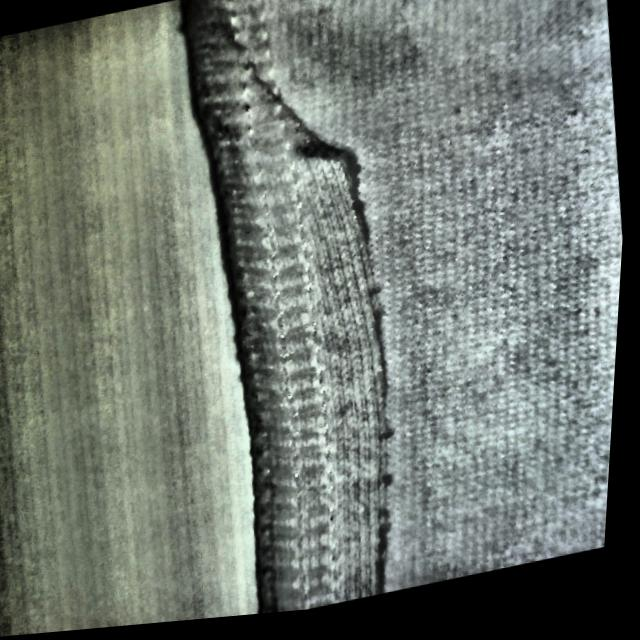seam: (204, 100, 462, 624)
